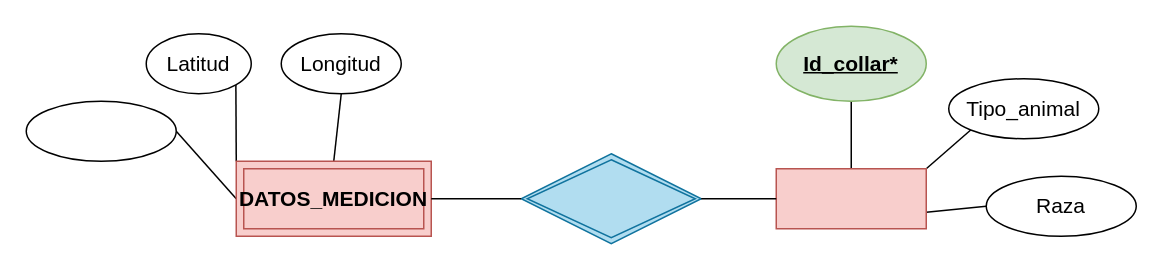
This 1163x270 diagram has some shape labels left out. Here are the shapes that lost their labels. From the top down, the centre of each, then its label:
(100,130): Fecha y Hora
(610,198): MEDICION
(850,198): COLLAR
